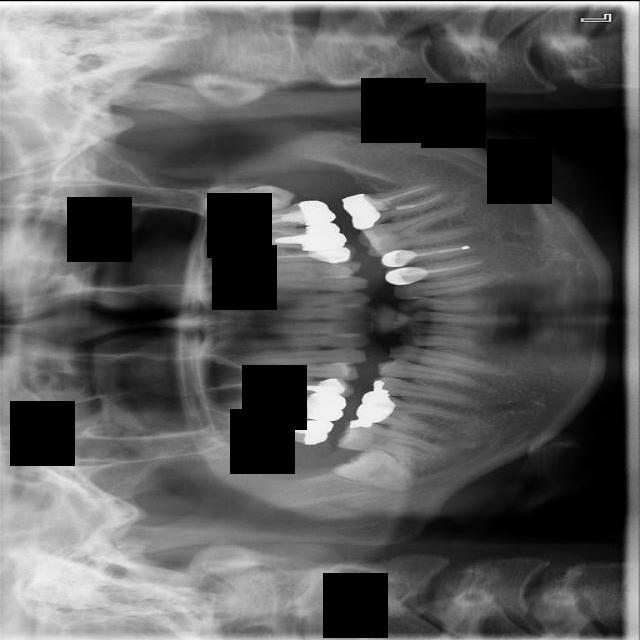52: (329, 364, 416, 463), (282, 189, 360, 278), (289, 368, 358, 452), (338, 184, 385, 234), (354, 220, 406, 259), (377, 245, 420, 270), (384, 264, 429, 286), (346, 359, 363, 376), (391, 322, 413, 334), (397, 295, 419, 307), (398, 333, 416, 345), (403, 308, 421, 315)
73: (363, 166, 447, 225), (226, 201, 307, 243), (220, 222, 306, 249), (410, 254, 489, 281), (403, 237, 477, 265), (234, 379, 321, 394), (244, 250, 322, 261), (576, 40, 578, 50)
BioHorizons Implant: (226, 197, 338, 231)
BioLife Implant: (194, 181, 296, 209)
Blue Sky Bio Implant: (340, 178, 446, 232)
Caries: (225, 412, 334, 446)
Implant: (335, 416, 447, 462)
Keystone Dental Implant: (330, 437, 424, 498)
